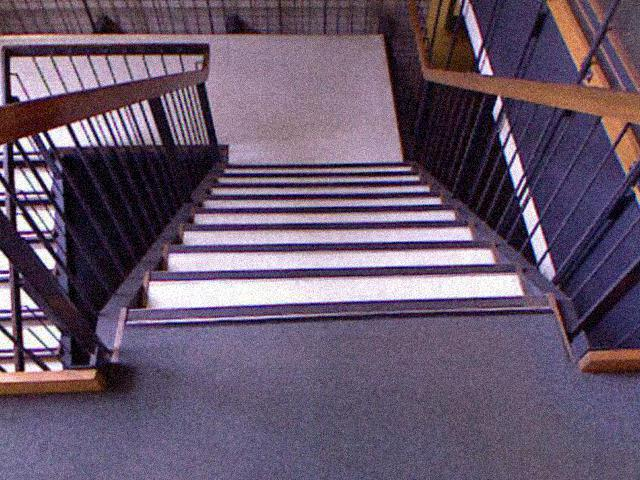Escaleras: (150, 157, 584, 301), (0, 144, 74, 414)
